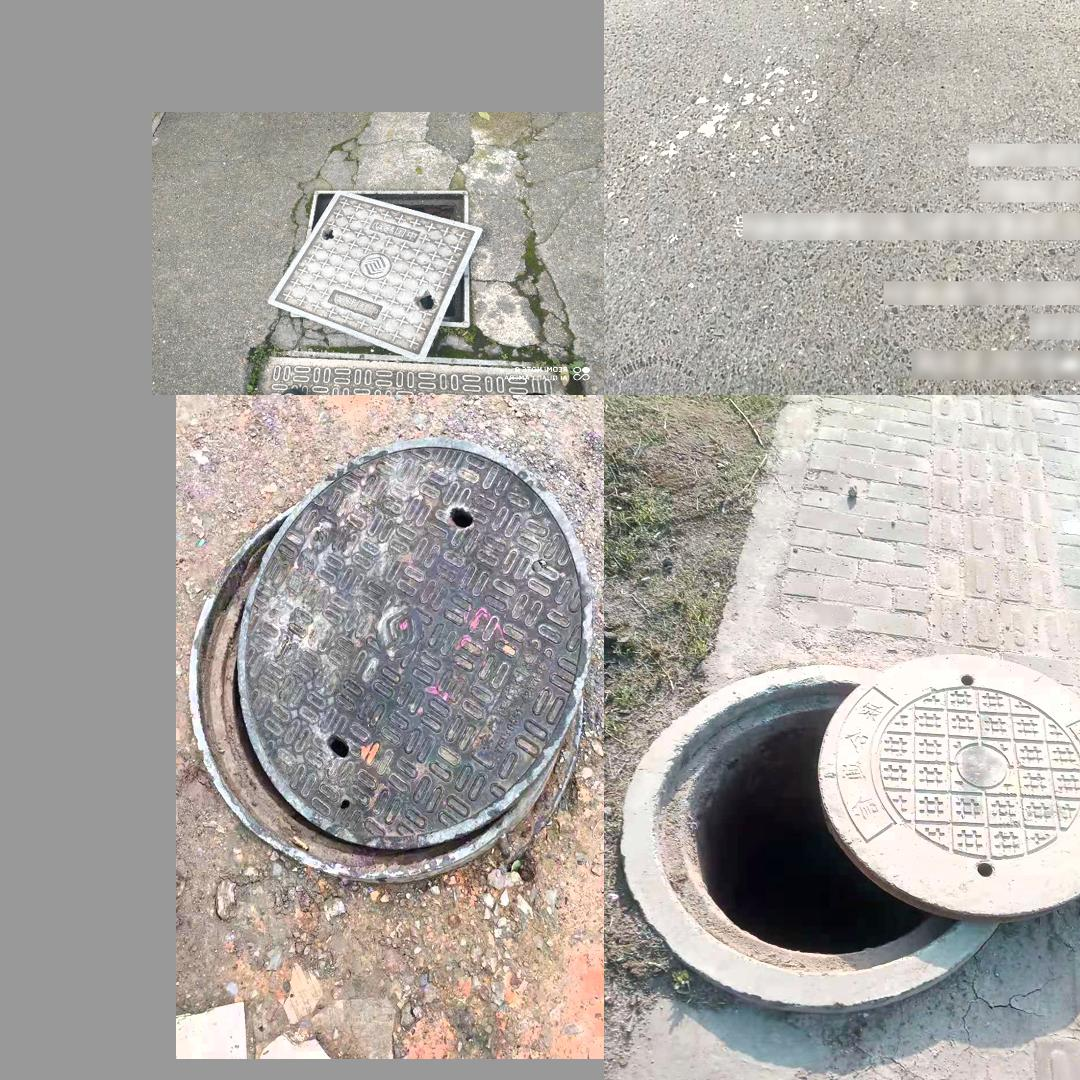uncovered: (187, 432, 592, 881), (622, 652, 1080, 1004), (267, 187, 484, 358)
